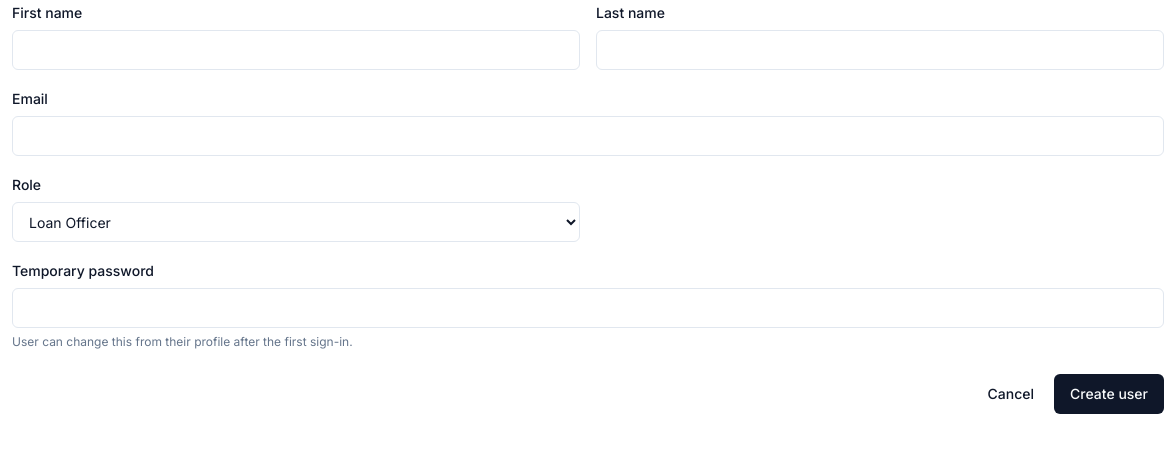
Test: UserForm — create › maps 422 fieldErrors back to the form
This screenshot has width=1176, height=457.
Type "Dup" into the field labelled "First name". click: (296, 50)
box: [12,30,580,70]
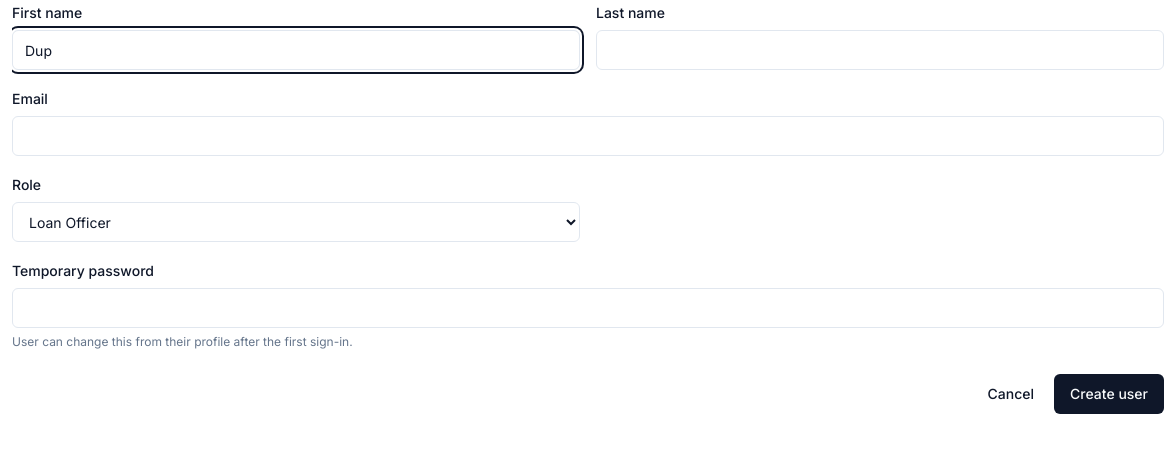
Type "Licate" into the field labelled "Last name". click: (880, 50)
box: [596,30,1164,70]
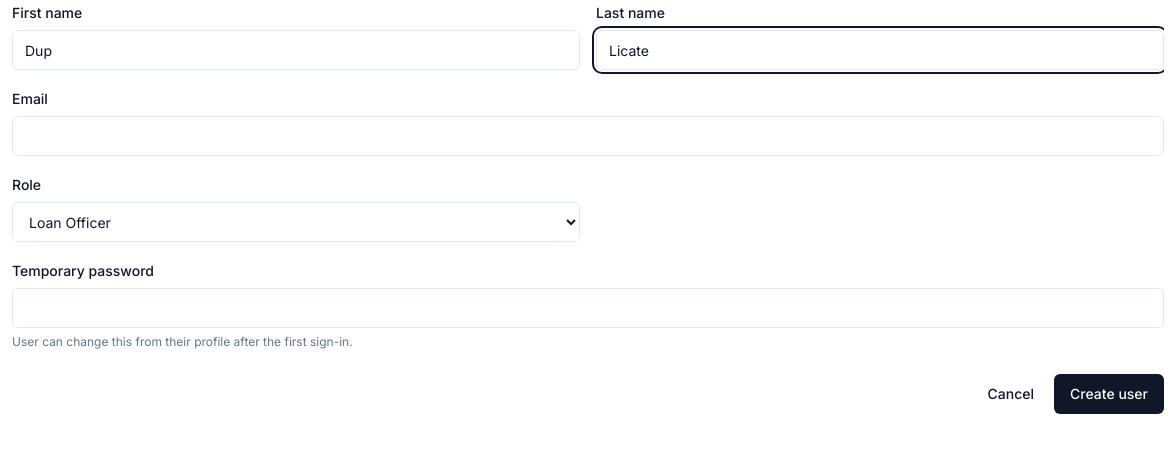
Type "dup@example.com" into the field labelled "Email". click: (588, 136)
box: [12,116,1164,156]
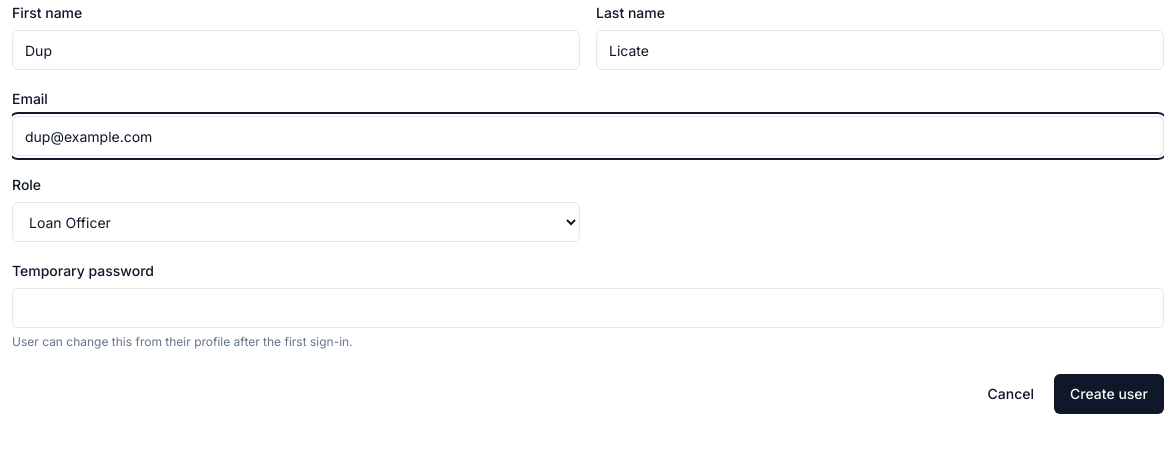
Type "password123" into the password field labelled "Temporary password". click: (588, 308)
box: [12,288,1164,328]
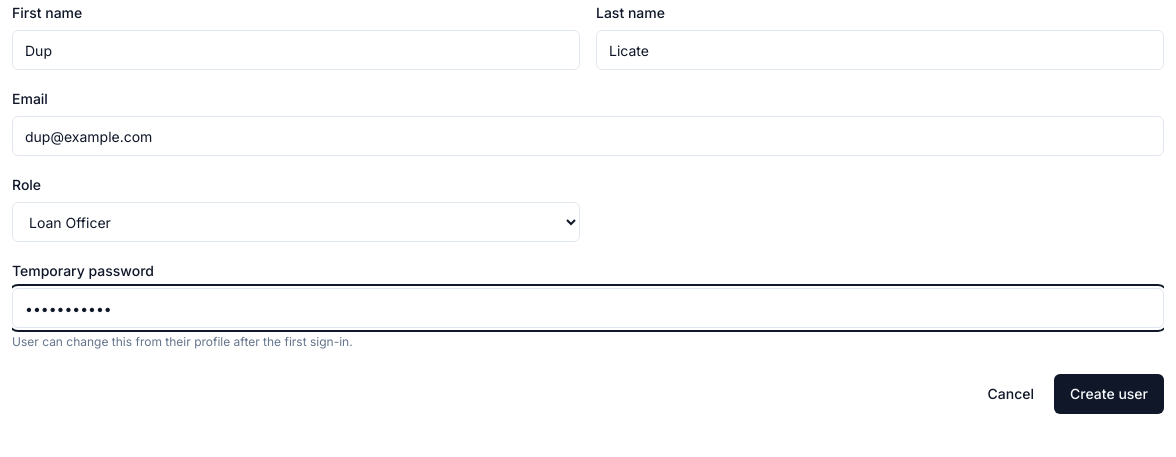
Click the button "Create user". click: (1109, 394)
box: [1054,374,1164,414]
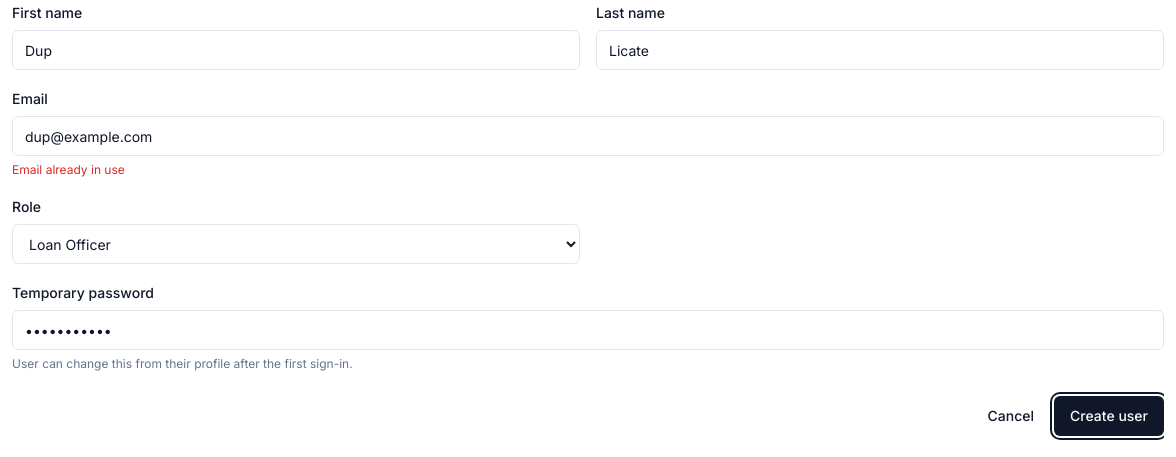
Expected: the text "Email already in use" is shown, [12,162,125,177]
